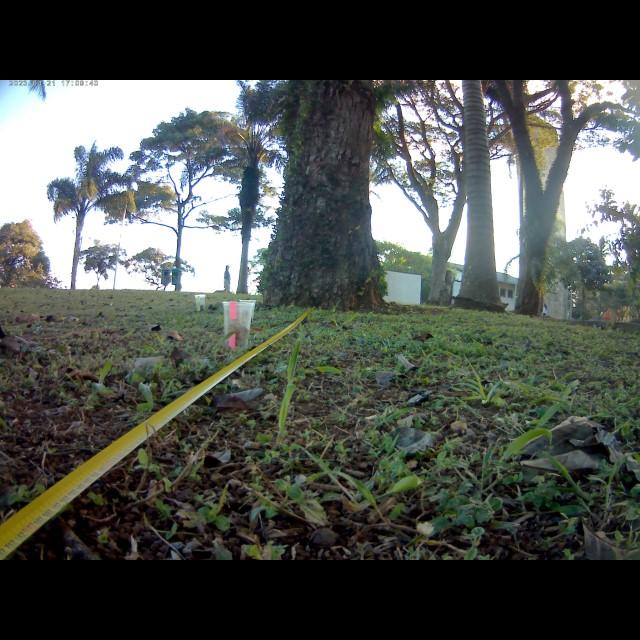arvore: (261, 80, 392, 313)
